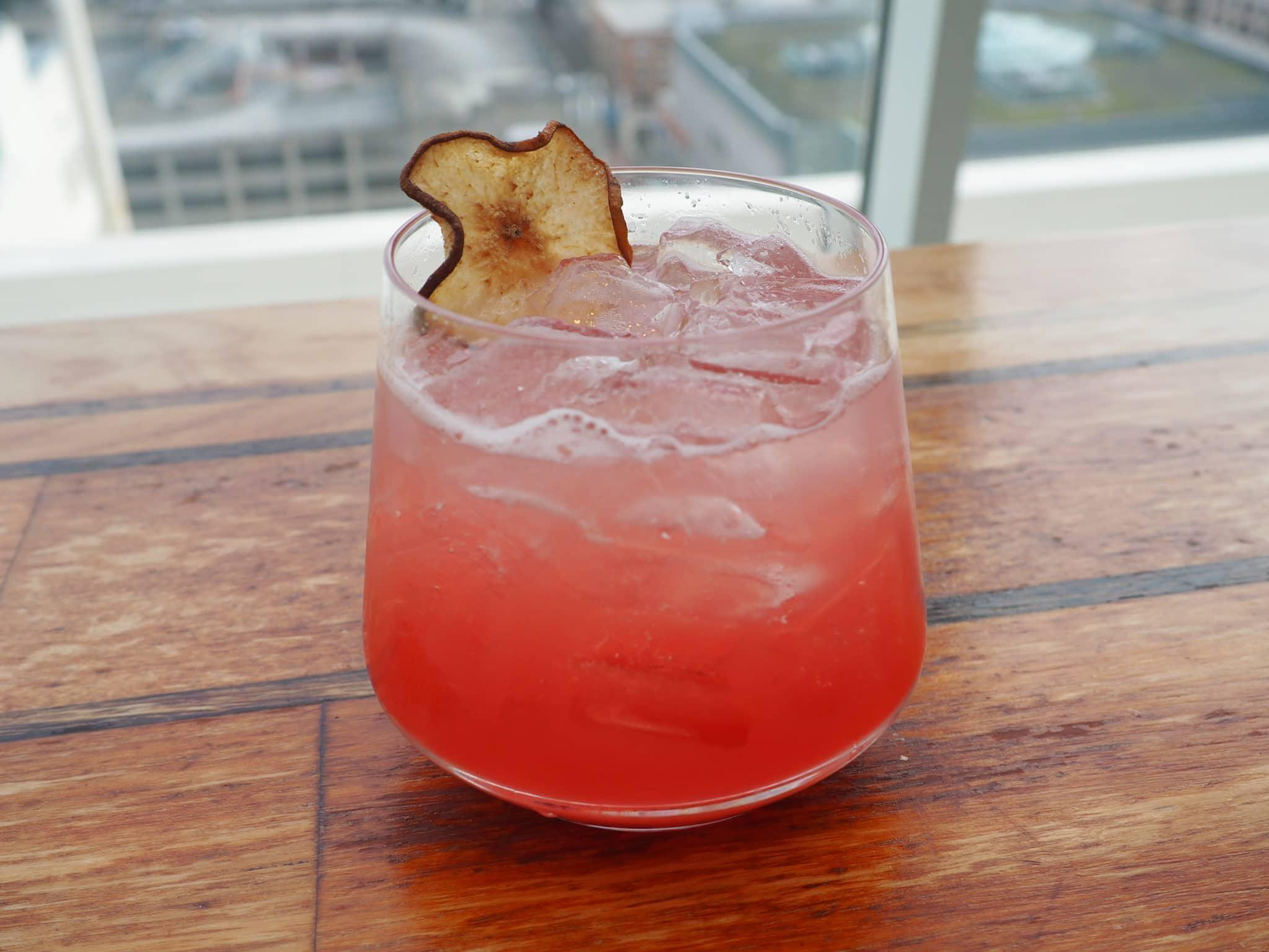glass-normal: (359, 164, 930, 831)
